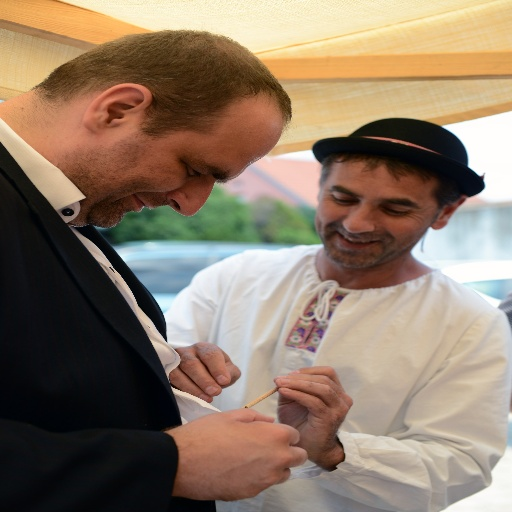hand: (173, 398, 315, 500), (270, 364, 359, 452), (165, 340, 241, 405)
